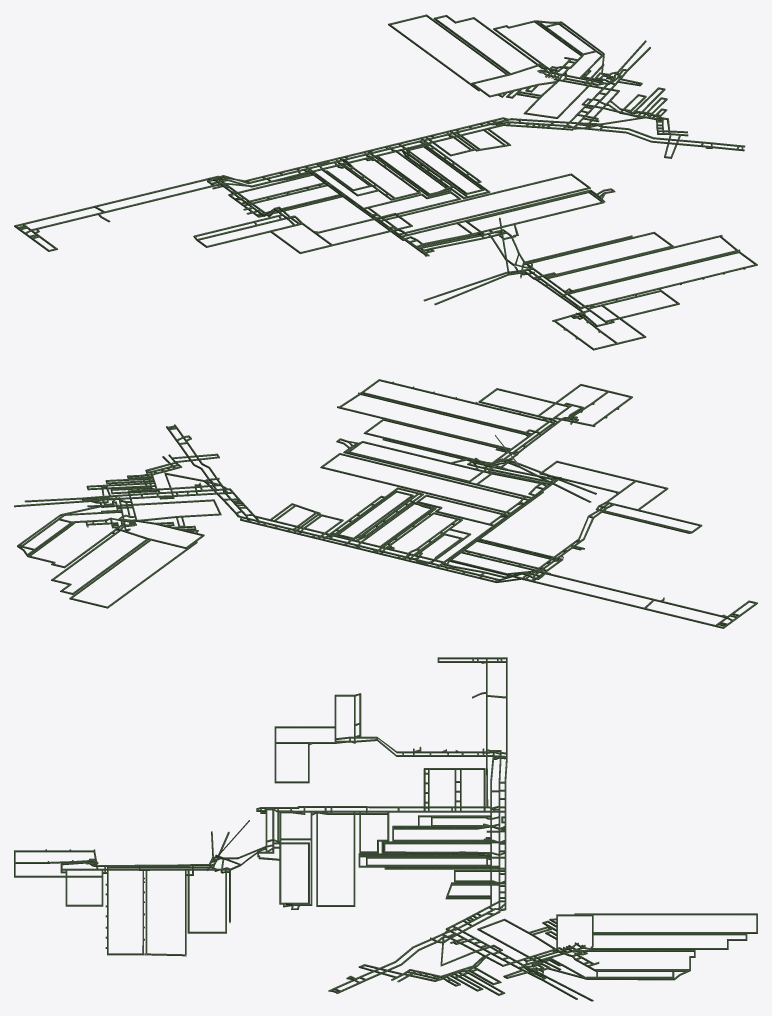
The picture shows the model from 3 angles, top to bottom: view 1: azimuth 30°, elevation 25°; view 2: azimuth 150°, elevation 25°; view 3: azimuth 270°, elevation 25°; orthographic projection. The views are drawn at different scales.
Visible parts, largest first — view 1: 通到; view 2: 通到; view 3: 通到.
Part boxes in pixels (x1,y1,x2,y2): 通到: (14,14,757,350); 通到: (14,379,757,628); 通到: (14,657,757,1001).
Size of the model in its own units: 708 by 58.44 by 669.
2 materials, 2 textured.
